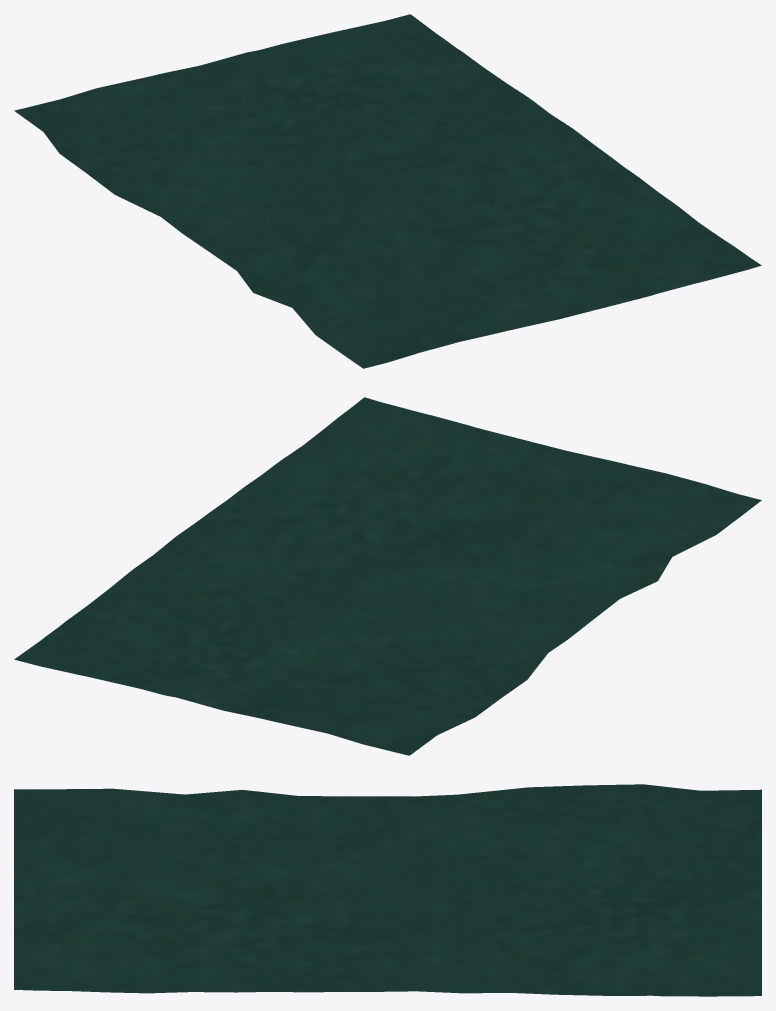
The picture shows the model from 3 angles, top to bottom: view 1: azimuth 30°, elevation 25°; view 2: azimuth 150°, elevation 25°; view 3: azimuth 270°, elevation 25°; orthographic projection. The views are drawn at different scales.
Size of the model in its own units: 34.9 by 0.7919 by 52.22.
Materials: 2 (2 with a texture image).
